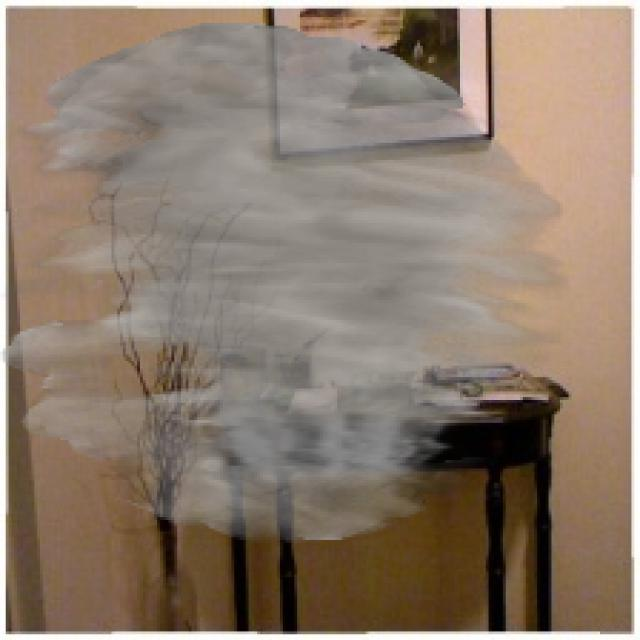smoke: (0, 23, 569, 543)
